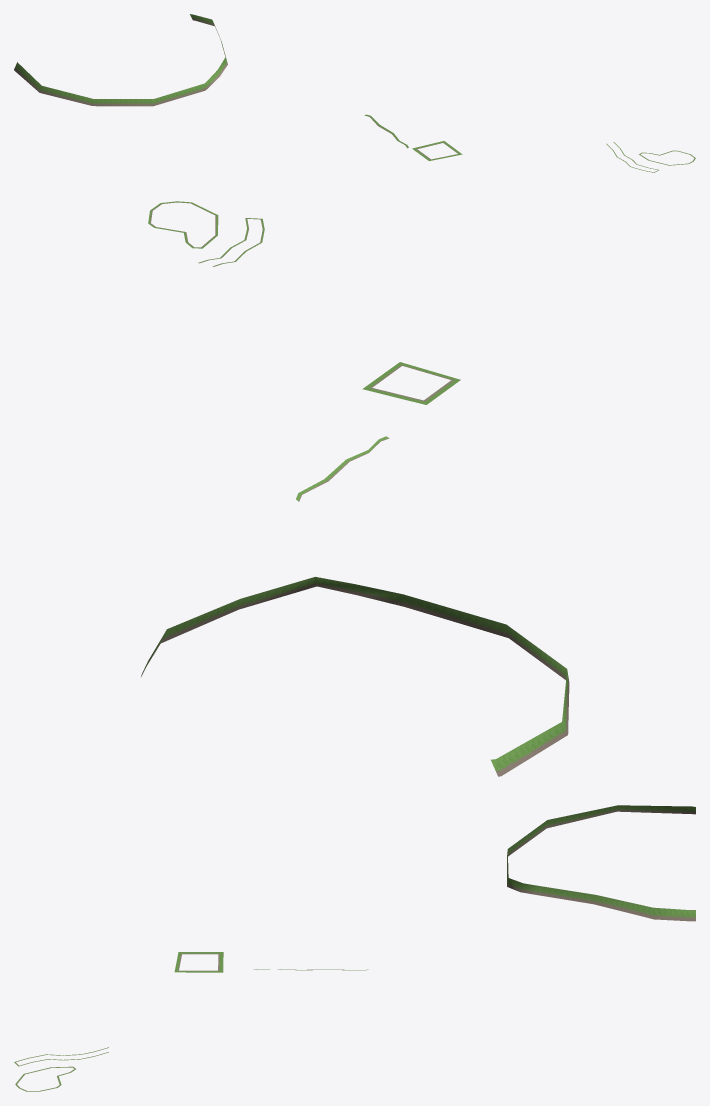
The model's file is kd_stage_1363c5_9_8_bounded.glb.
3 views of the same model, one above another, from view 1: azimuth 30°, elevation 25°; view 2: azimuth 150°, elevation 25°; view 3: azimuth 270°, elevation 25° (orthographic). The views are drawn at different scales.
Parts seen in each view (by area): view 1: kd_stage_1363c5_9_8_bounded; view 2: kd_stage_1363c5_9_8_bounded; view 3: kd_stage_1363c5_9_8_bounded.
Part boxes in pixels (x1,y1,x2,y2): kd_stage_1363c5_9_8_bounded: (14, 14, 695, 172); kd_stage_1363c5_9_8_bounded: (141, 201, 569, 776); kd_stage_1363c5_9_8_bounded: (14, 805, 695, 1091).
Size of the model in its own units: 151 by 9.93 by 159.
1 material, 1 textured.
